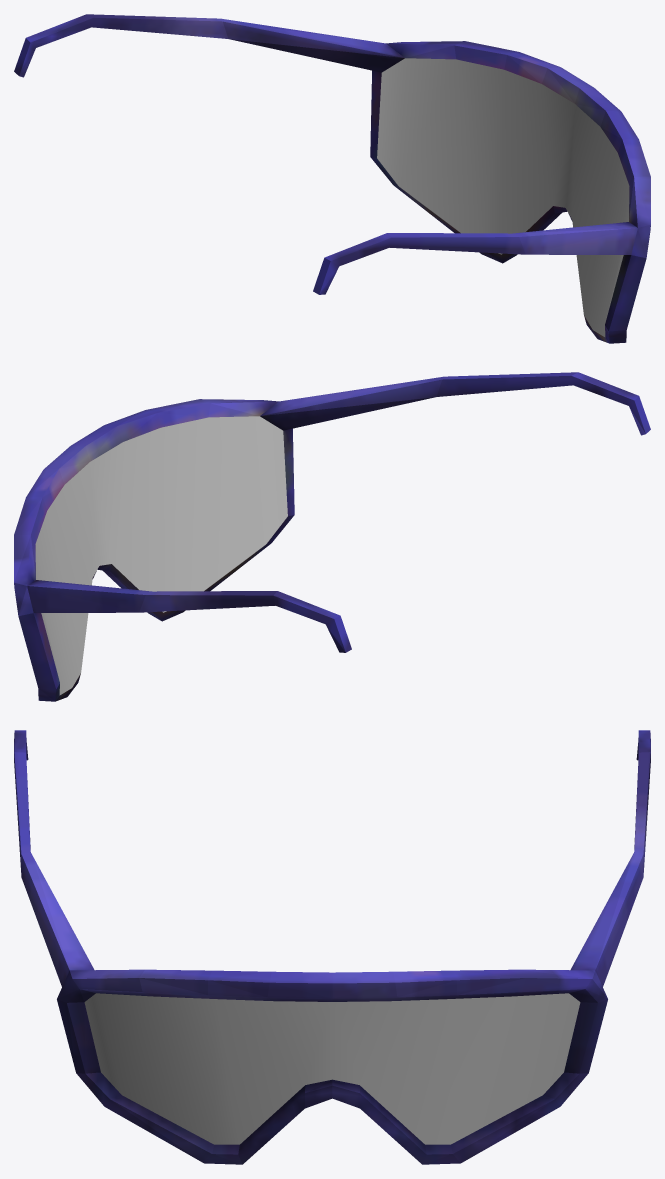
Rendered from CHROMATIC SUNGLASSES.fbx.
3 views of the same model, one above another, from view 1: azimuth 30°, elevation 25°; view 2: azimuth 150°, elevation 25°; view 3: azimuth 270°, elevation 25° (orthographic). The views are drawn at different scales.
Visible parts, largest first — view 1: SunGlassesLens, SunGlasses; view 2: SunGlassesLens, SunGlasses; view 3: SunGlassesLens, SunGlasses.
Part boxes in pixels (x1,y1,x2,y2): SunGlassesLens: [377, 58, 629, 337]; SunGlasses: [14, 14, 650, 343]; SunGlassesLens: [35, 416, 287, 695]; SunGlasses: [14, 372, 650, 701]; SunGlassesLens: [84, 993, 580, 1144]; SunGlasses: [14, 730, 650, 1164].
Bounding box in the file's own units: 20.18 × 11 × 24.93.
